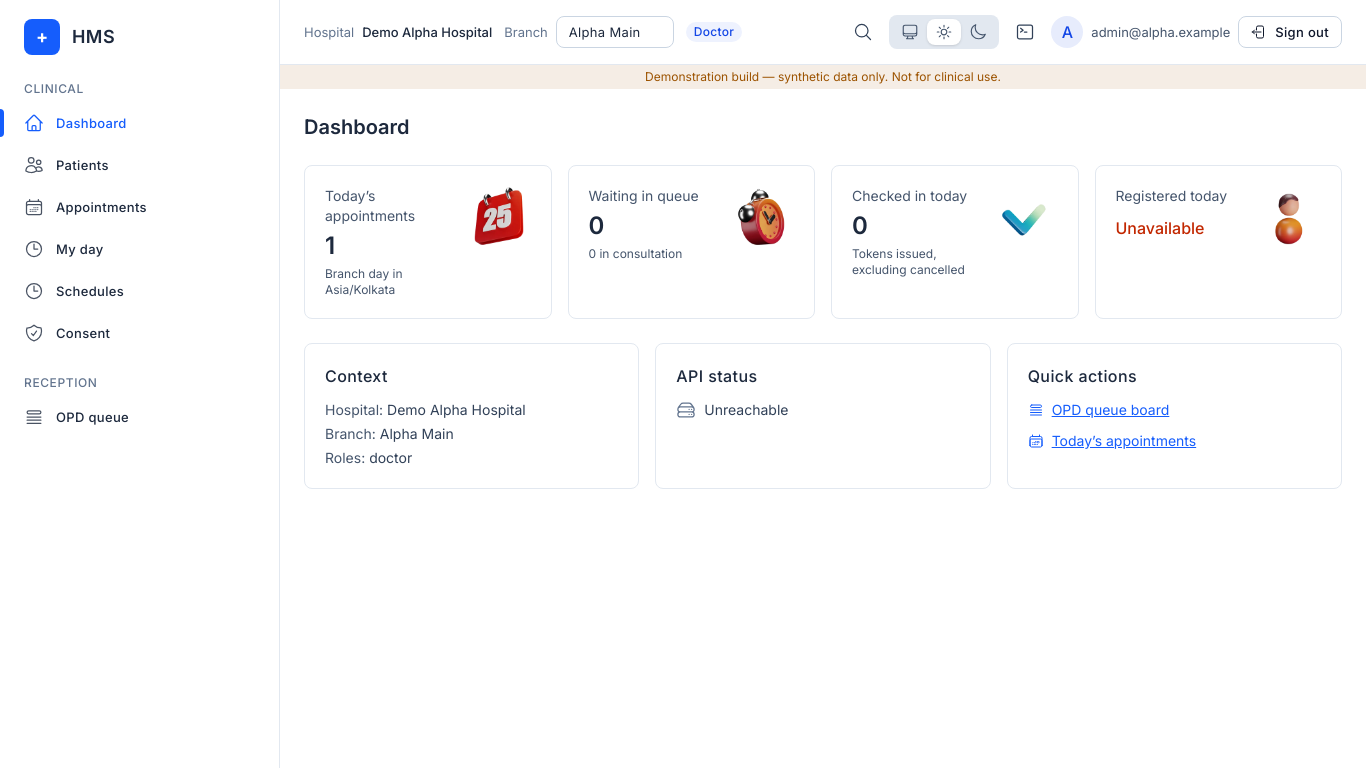
Test: reception keyboard shortcuts › "?" lists only the shortcuts the role may use; Esc closes and focus returns
Type keys "?"
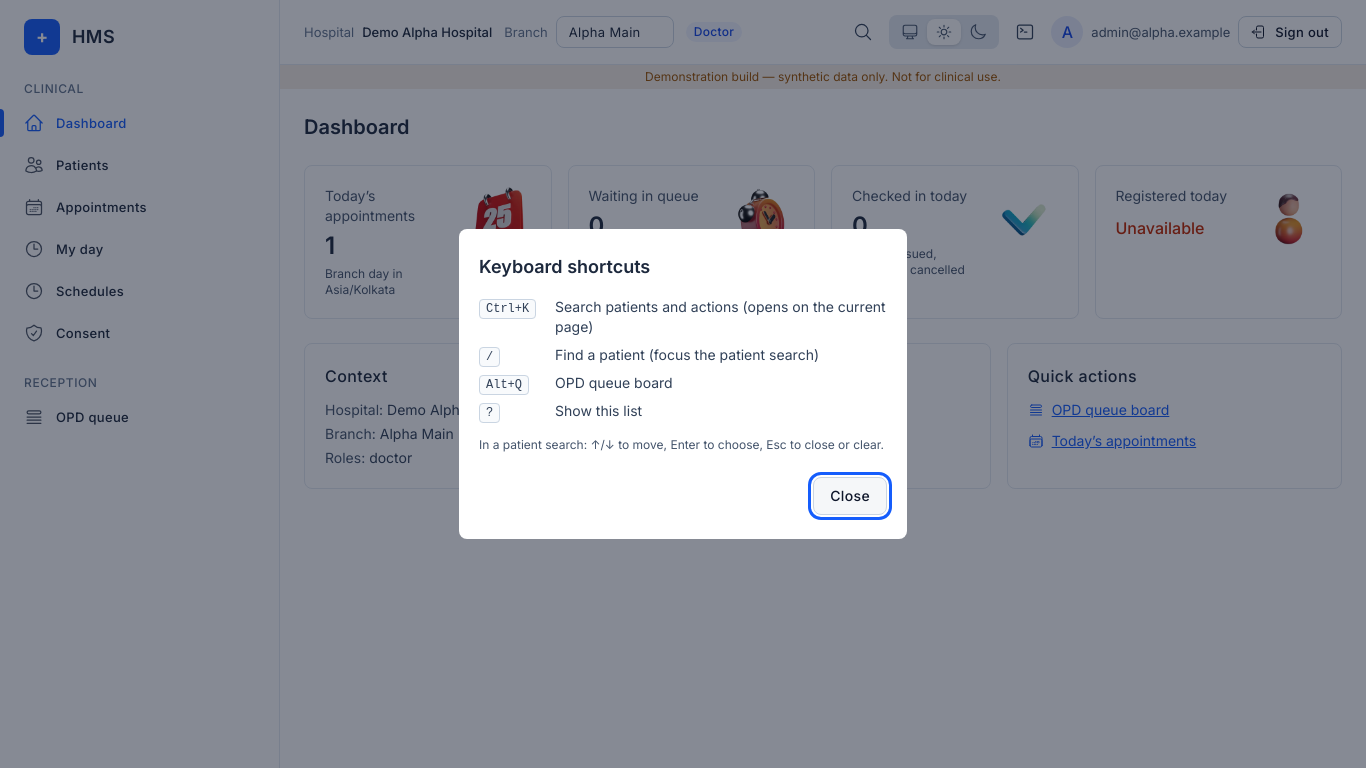
Now the dialog "Keyboard shortcuts" shows "Alt+Q", box x1=486 y1=378 x2=522 y2=392
Press Escape
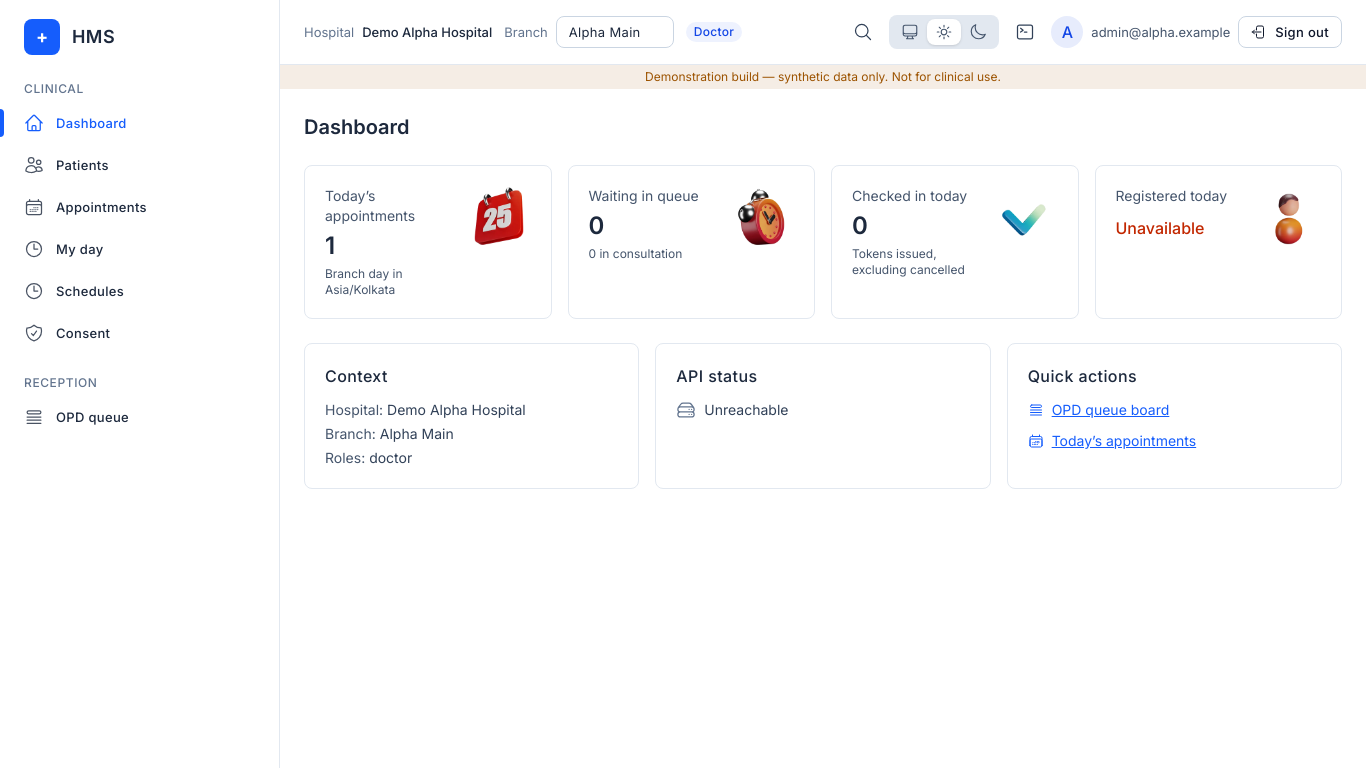
Now the dialog is gone
Click the button named "Keyboard shortcuts".
click(1025, 32)  # box x1=1007 y1=14 x2=1043 y2=50
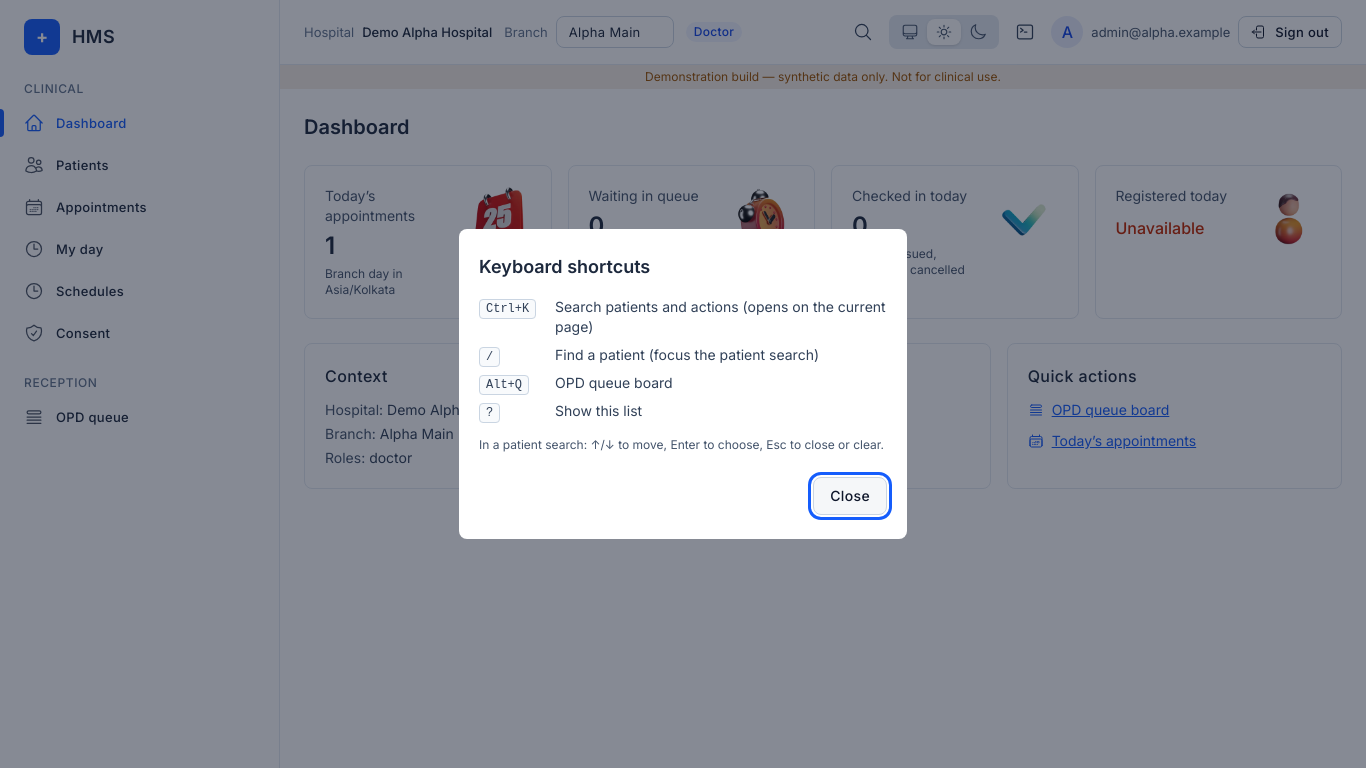
Now the dialog is shown
